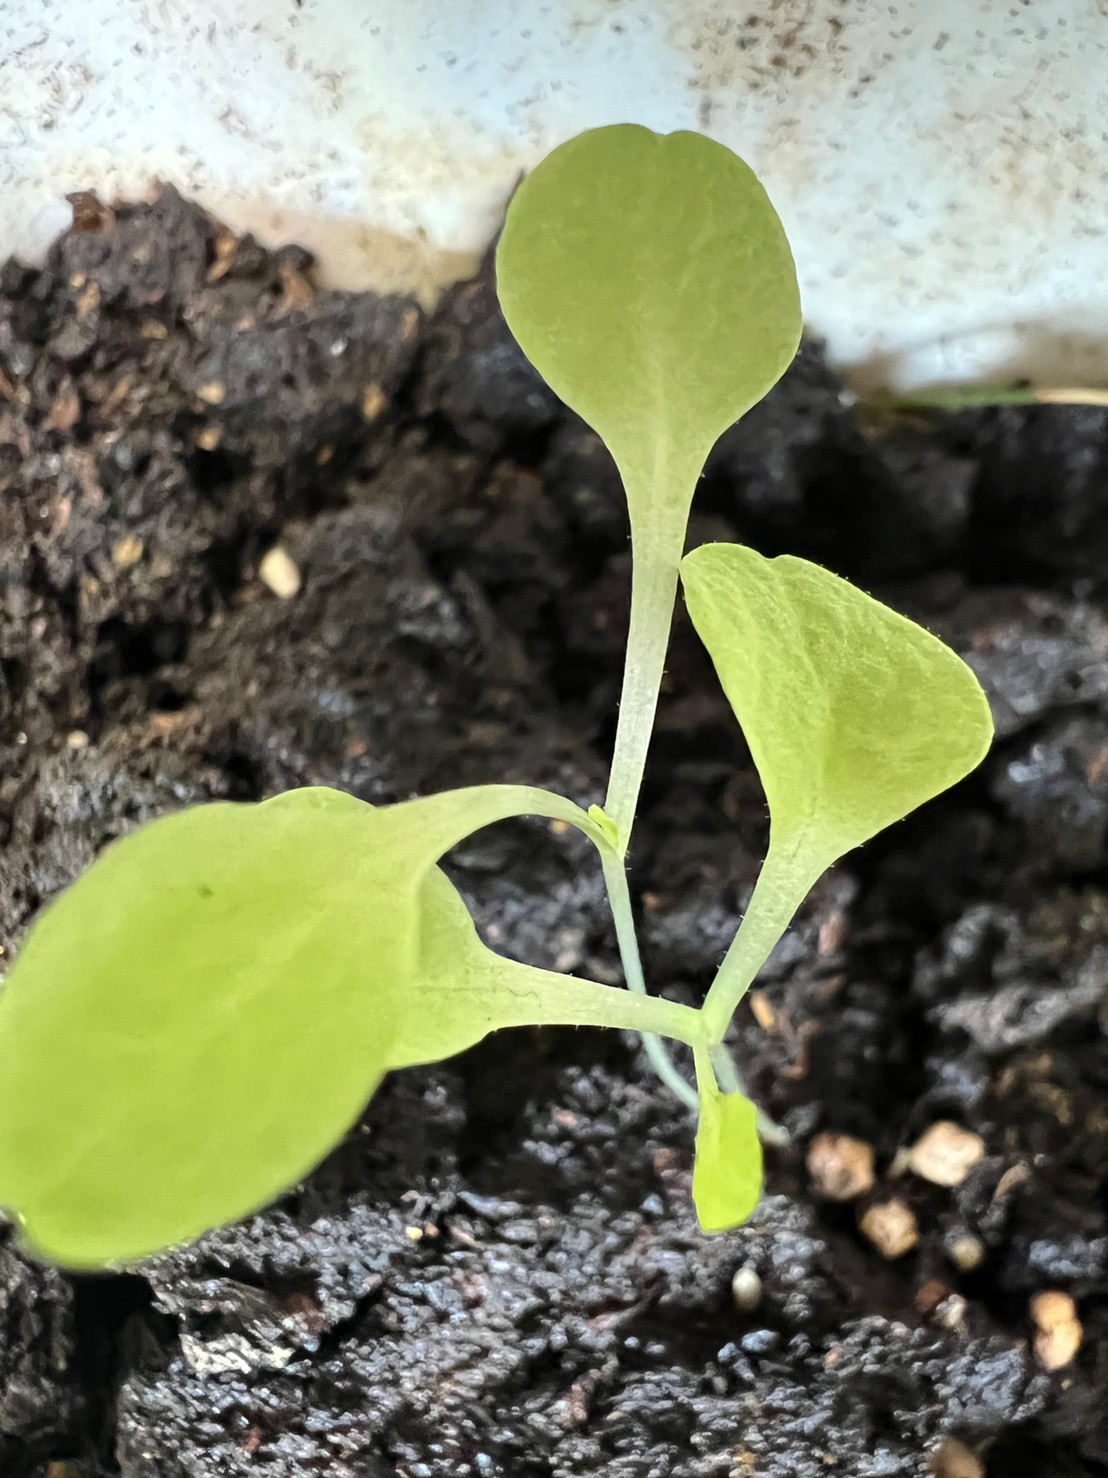week2: (21, 12, 1084, 1413)
